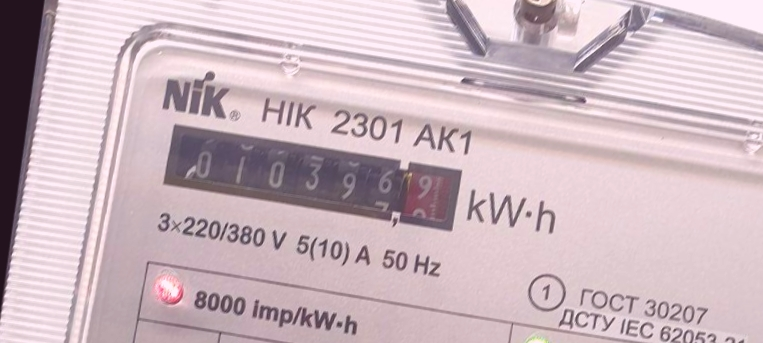0: (262, 155, 288, 191), (189, 145, 214, 181)
1: (230, 151, 247, 185)
3: (300, 159, 323, 194)
6: (372, 165, 397, 197)
9: (334, 168, 358, 203), (409, 171, 434, 204)
screen: (144, 109, 473, 246)
